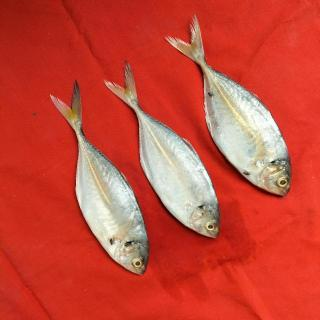Ikan: (52, 19, 296, 282)
